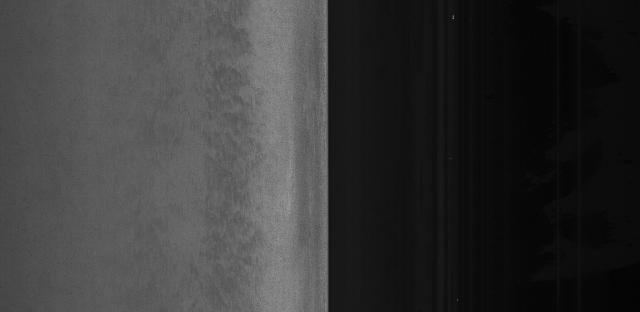silk_spot: (193, 69, 272, 309)
